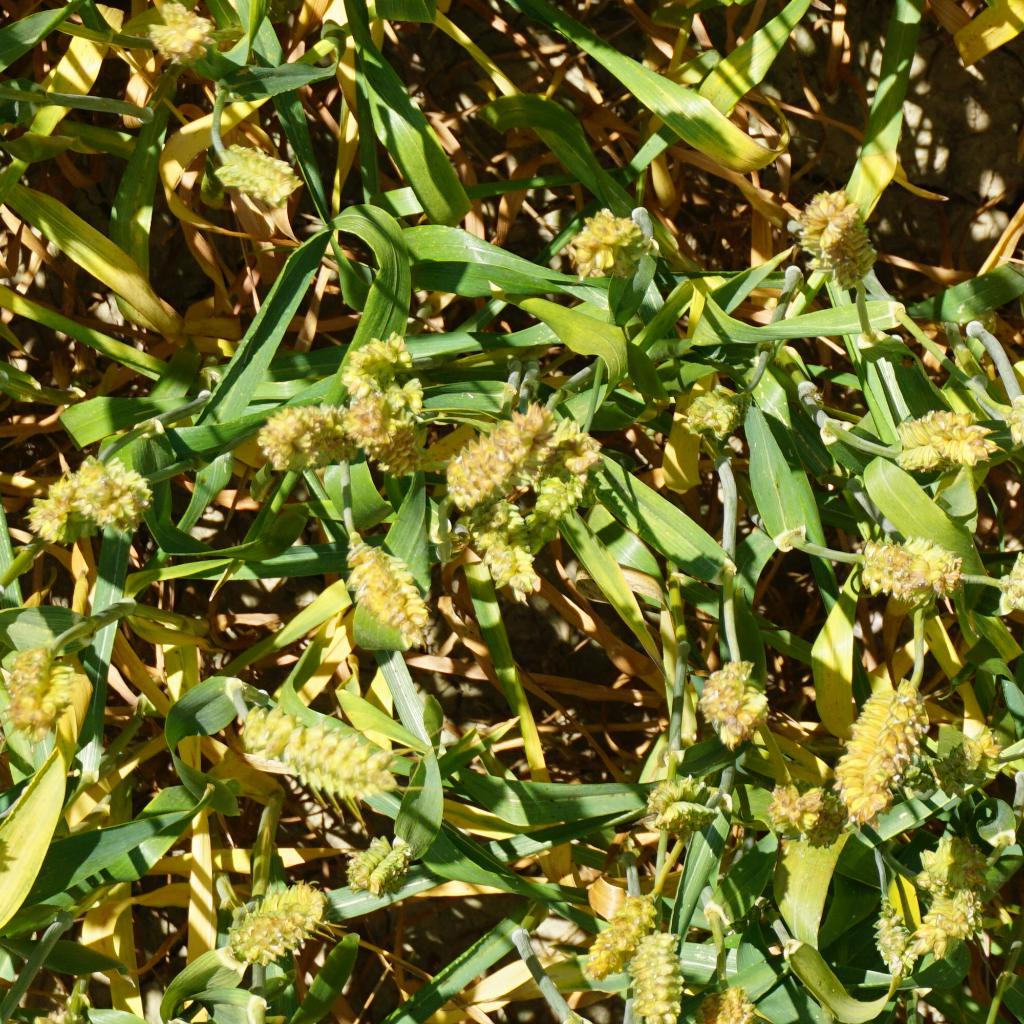0-0: (239, 724, 394, 797), (839, 674, 916, 820), (777, 190, 875, 286), (450, 401, 544, 494), (342, 549, 431, 642), (617, 931, 690, 1024), (232, 880, 320, 957), (5, 644, 76, 737), (130, 0, 233, 64), (696, 652, 775, 735), (473, 494, 541, 585), (260, 399, 351, 466), (891, 403, 986, 466), (583, 886, 650, 973), (750, 775, 844, 837), (80, 453, 150, 534), (215, 144, 312, 202), (854, 541, 963, 592), (919, 887, 988, 963), (577, 210, 651, 276), (350, 330, 430, 388), (352, 397, 417, 467), (524, 485, 584, 553), (653, 779, 727, 832), (865, 909, 924, 975), (906, 743, 982, 794), (692, 373, 744, 438), (919, 842, 984, 888), (33, 479, 82, 538), (984, 534, 1024, 604), (359, 841, 412, 892), (705, 973, 759, 1022), (552, 419, 600, 474), (1006, 397, 1024, 468)
